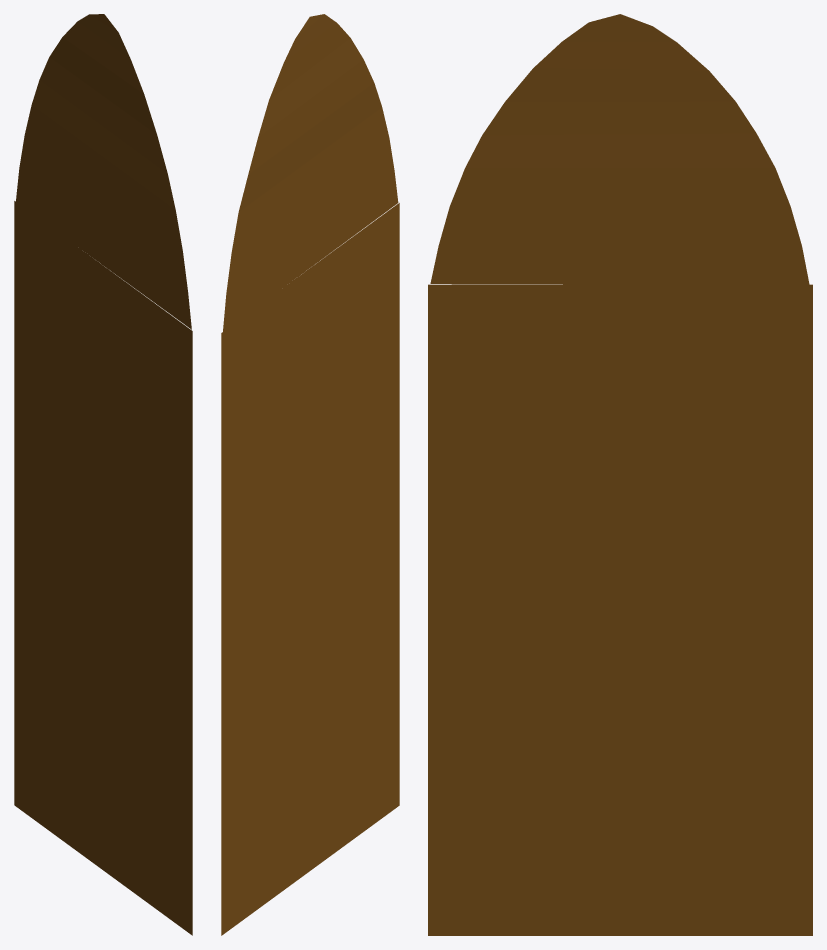
The model's file is StainedGlass_04_x1_Lod0.fbx.
The picture shows the model from 3 angles, left to right: view 1: azimuth 30°, elevation 25°; view 2: azimuth 150°, elevation 25°; view 3: azimuth 270°, elevation 25°; orthographic projection. The views are drawn at different scales.
Parts seen in each view (by area): view 1: StainedGlass_04_x1_Lod0; view 2: StainedGlass_04_x1_Lod0; view 3: StainedGlass_04_x1_Lod0.
Boxes of the visible parts, <box> form: StainedGlass_04_x1_Lod0: <box>14,14,192,935</box>; StainedGlass_04_x1_Lod0: <box>221,14,399,935</box>; StainedGlass_04_x1_Lod0: <box>428,14,812,935</box>.
Bounding box in the file's own units: 0.7949 × 425 × 161.
